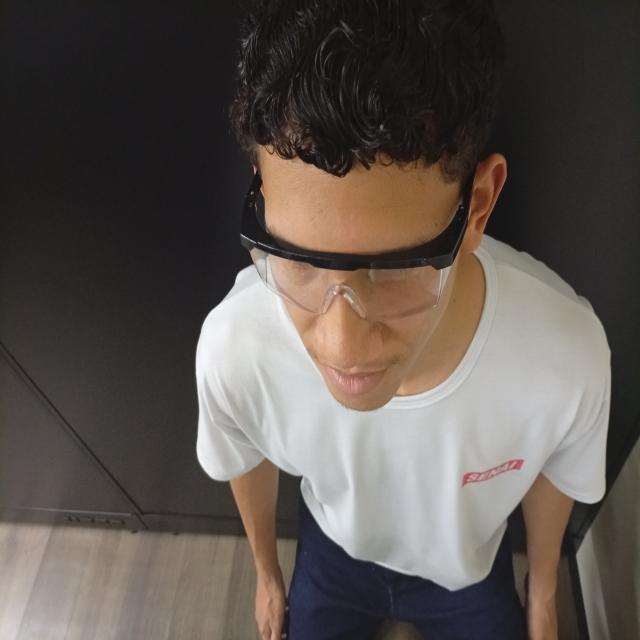oculos-epi: (241, 171, 475, 320)
